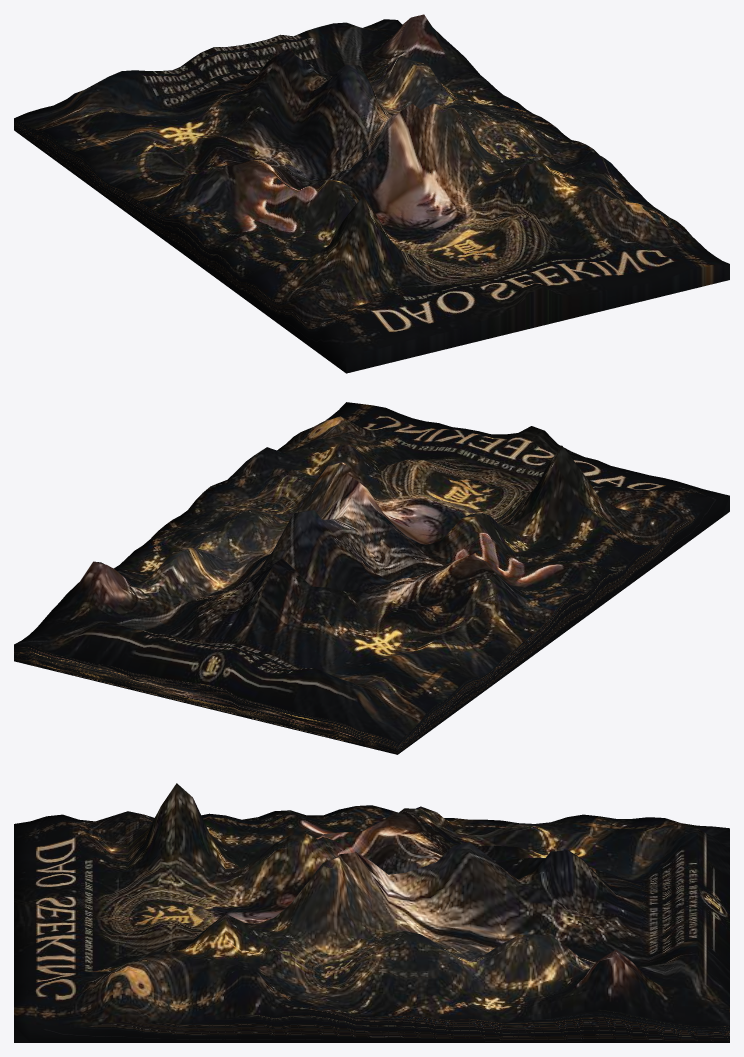
Rendered from REALM_08_Dao_Seeking.glb.
3 views of the same model, one above another, from view 1: azimuth 30°, elevation 25°; view 2: azimuth 150°, elevation 25°; view 3: azimuth 270°, elevation 25° (orthographic). The views are drawn at different scales.
Parts seen in each view (by area): view 1: REALM_08_Dao_Seeking; view 2: REALM_08_Dao_Seeking; view 3: REALM_08_Dao_Seeking.
Boxes of the visible parts, bbox=[...] form: REALM_08_Dao_Seeking: bbox=[14, 14, 729, 373]; REALM_08_Dao_Seeking: bbox=[14, 402, 729, 754]; REALM_08_Dao_Seeking: bbox=[14, 783, 729, 1042].
Bounding box in the file's own units: 2 × 0.51 × 3.
1 material, 1 textured.
